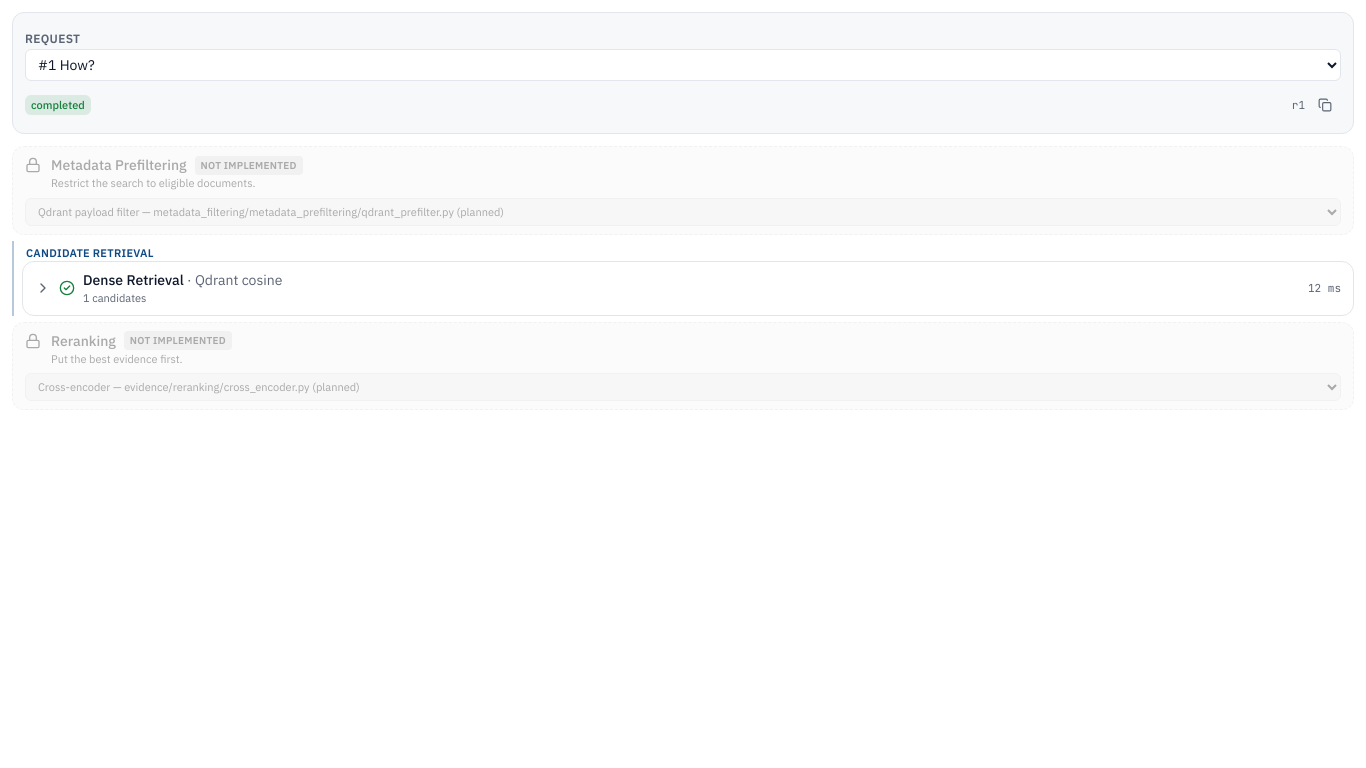
Scenario: Execution tab › shows the method and parameters that really ran; future blocks stay disabled
Expected: the text "Candidate Retrieval" is shown, [26, 246, 154, 260]
Expected: the element with test id "disabled-stage-metadata_prefiltering" shows "Not implemented", [201, 158, 297, 172]
Click the heading "Dense Retrieval · Qdrant cosine 1 candidates 12 ms": coordinates (133, 280) [23, 262, 1353, 314]
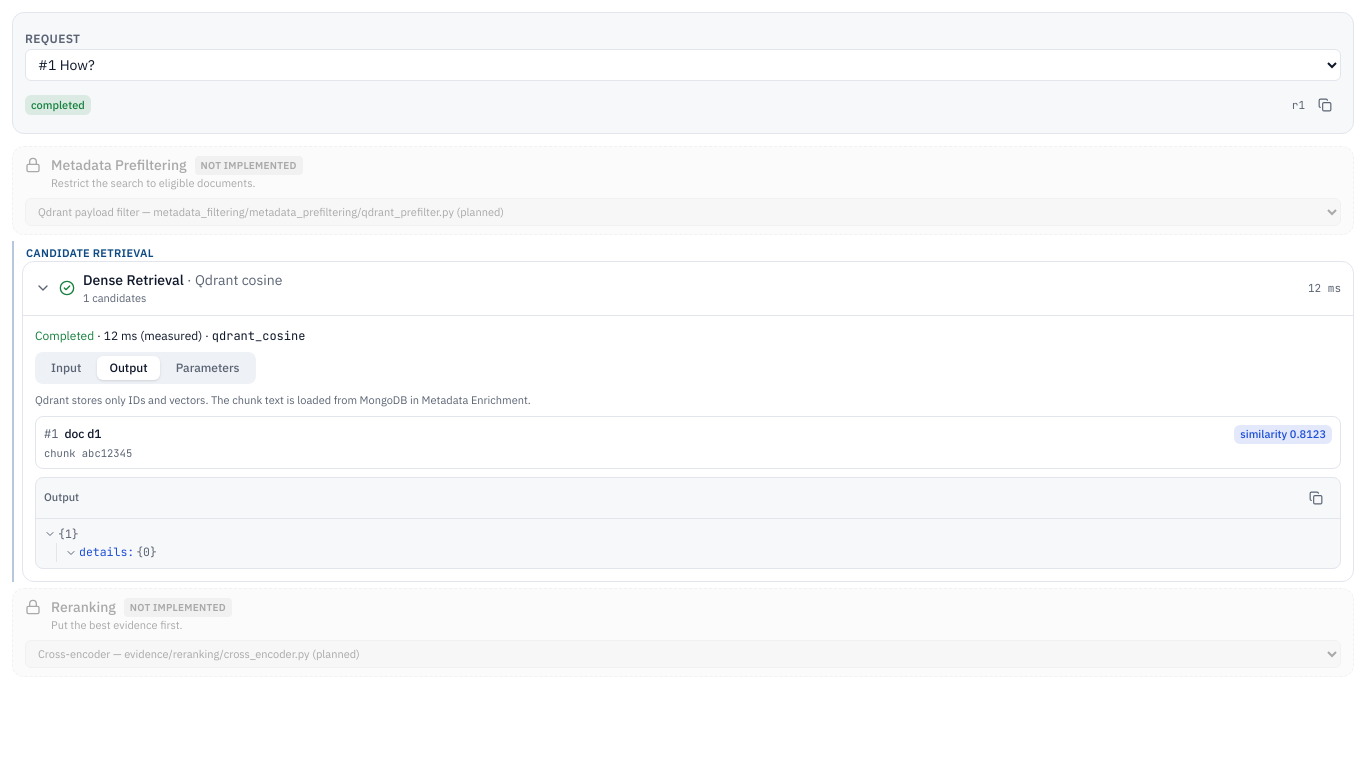
Expected: the element with test id "disabled-stage-reranking" is shown, [12, 588, 1354, 676]
Expected: the text "similarity 0.8123" is shown, [1234, 425, 1332, 444]
